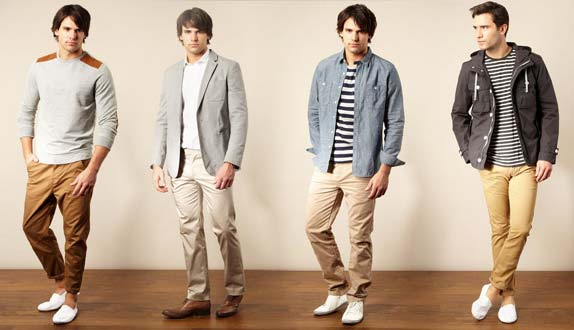NOTSAFE: (464, 3, 545, 181), (159, 6, 234, 198), (314, 3, 390, 189), (25, 5, 105, 178)
